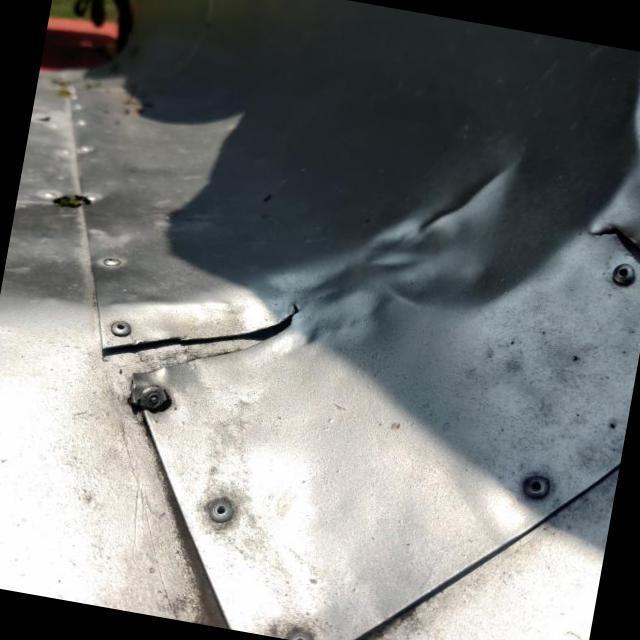dent: (265, 0, 639, 328)
